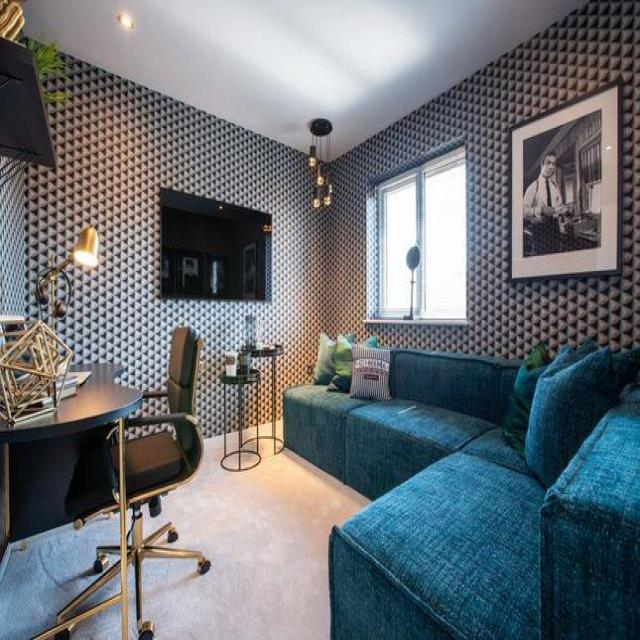Wall: (18, 4, 631, 435), (24, 0, 583, 157), (144, 437, 367, 639), (0, 516, 119, 638), (620, 68, 640, 344), (0, 157, 25, 314), (72, 604, 120, 639), (607, 0, 639, 46), (253, 358, 271, 425), (89, 578, 119, 603), (244, 384, 255, 428), (129, 568, 136, 637), (228, 386, 237, 432)
